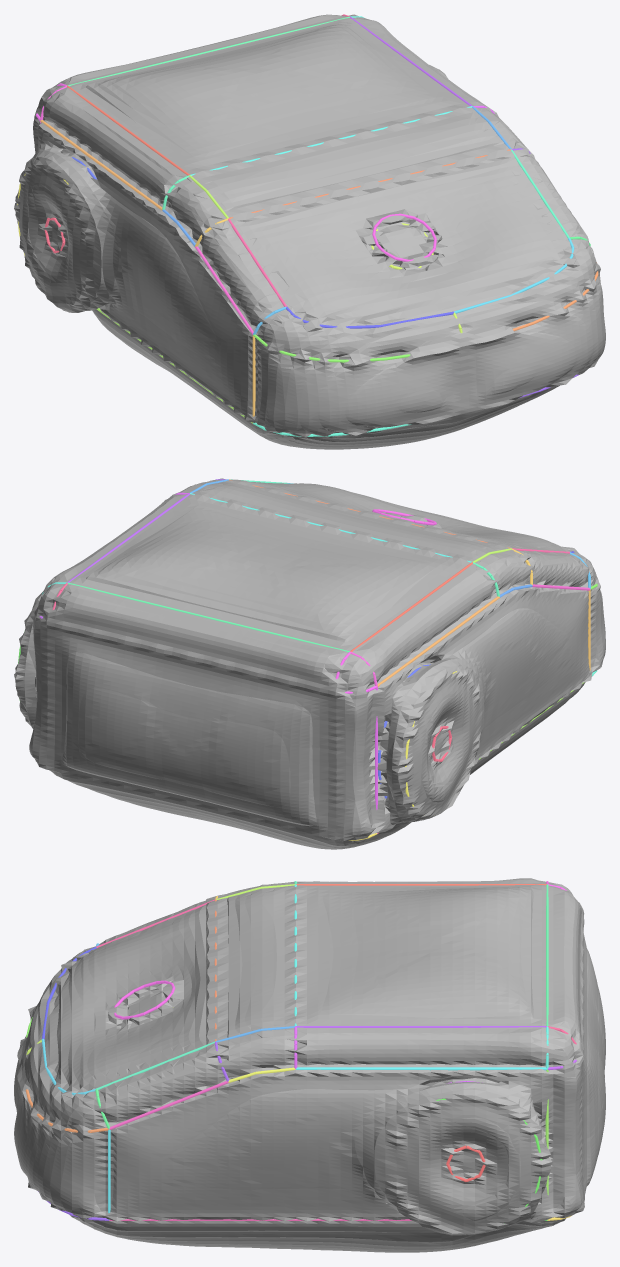
Rendered from onshape_vacuum.gltf.
3 views of the same model, one above another, from view 1: azimuth 30°, elevation 25°; view 2: azimuth 150°, elevation 25°; view 3: azimuth 270°, elevation 25° (orthographic). The views are drawn at different scales.
Bounding box in the file's own units: 0.6401 × 0.4167 × 0.7933.
